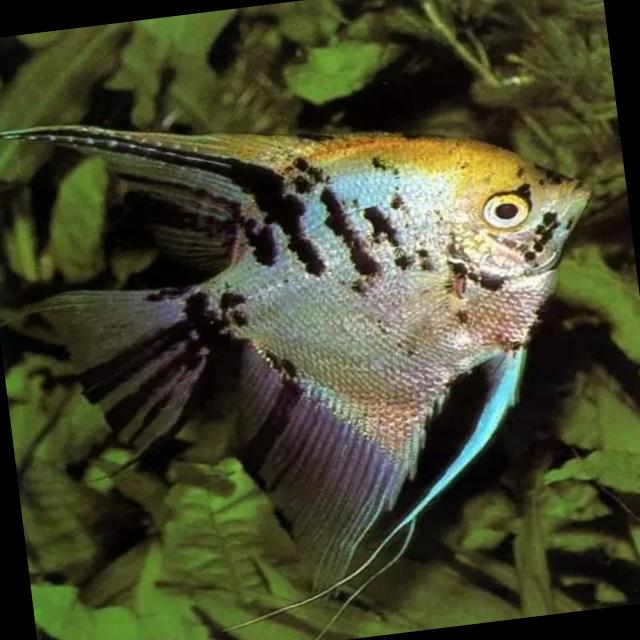AngelFish: (0, 52, 634, 628)
